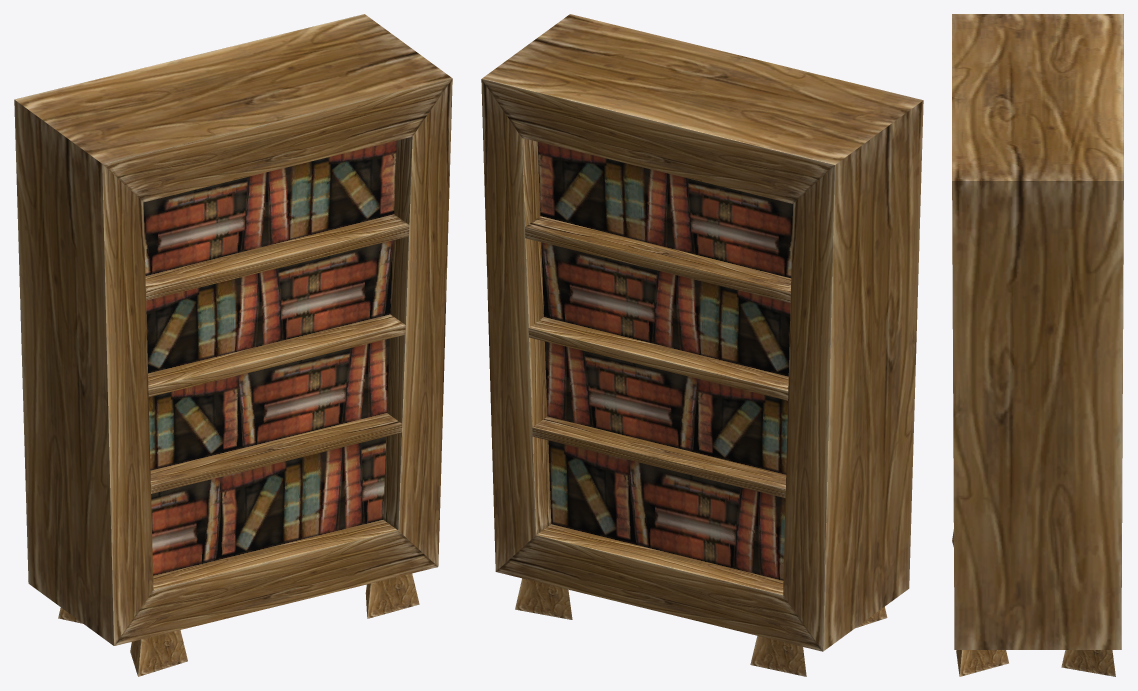
Rendered from abbeyshelf01.obj.
The picture shows the model from 3 angles, left to right: view 1: azimuth 30°, elevation 25°; view 2: azimuth 150°, elevation 25°; view 3: azimuth 270°, elevation 25°; orthographic projection. The views are drawn at different scales.
Parts seen in each view (by area): view 1: abbeyshelf01; view 2: abbeyshelf01; view 3: abbeyshelf01.
Boxes of the visible parts, x1=… form: abbeyshelf01: x1=14, y1=14, x2=452, y2=676; abbeyshelf01: x1=481, y1=14, x2=923, y2=676; abbeyshelf01: x1=952, y1=14, x2=1123, y2=676.
Size of the model in its own units: 3.56 by 5.06 by 1.55.
1 material, 1 textured.
